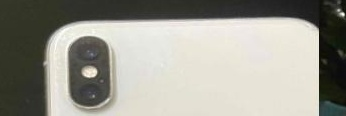scratch: (104, 89, 116, 102)
